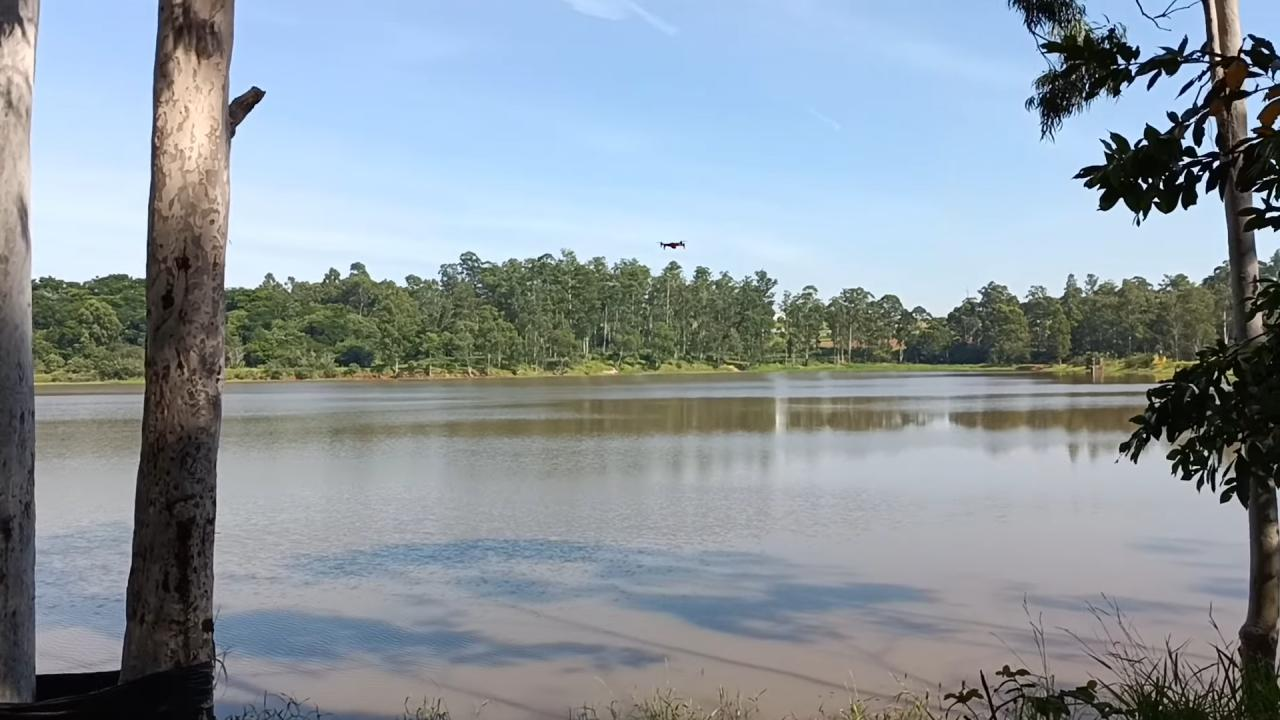Drone: (651, 234, 694, 255)
